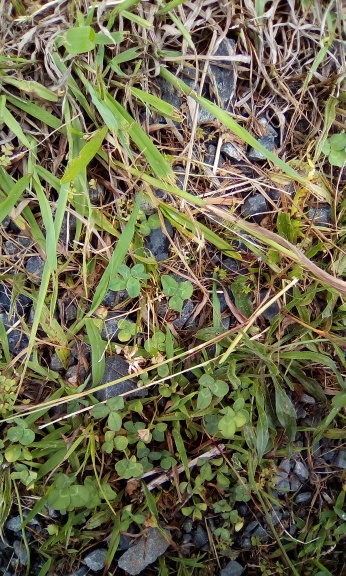4leaf: (106, 263, 151, 299)
